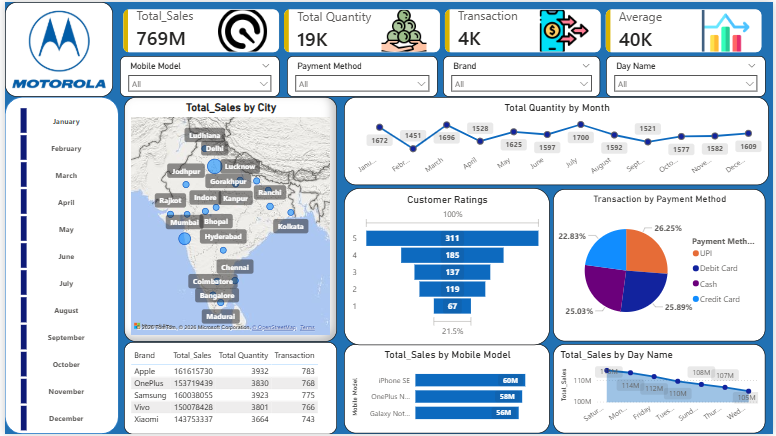

The page's visual inventory and layout, read from the dashboard file:
{"tool":"powerbi","page":{"name":"Page 1","canvas":[1280,720],"ordinal":0},"visuals":[{"type":"image","box":[0,0,180,158.5],"z":0},{"type":"shape","box":[0,158.5,189.2,561.5],"z":1000},{"type":"slicer","fields":{"Values":["Sales_Data.Date.Variation.Date Hierarchy.Month"]},"box":[0,169.2,192.3,550.8],"z":2000},{"type":"cardVisual","fields":{"Data":["Sales_Data.Total_Sales","Sales_Data.Total Quantity","Sales_Data.Transaction","Sales_Data.Average"]},"box":[180,0,1100,101.5],"z":3000},{"type":"map","fields":{"Category":["Sales_Data.City"],"Size":["Sales_Data.Total_Sales"]},"box":[198.5,158.5,355.4,407.7],"z":4000},{"type":"lineChart","fields":{"Y":["Sales_Data.Total Quantity"],"Category":["Sales_Data.Date.Variation.Date Hierarchy.Month","Sales_Data.Date.Variation.Date Hierarchy.Day"]},"box":[565.3,159,708.4,147.5],"z":5000},{"type":"clusteredBarChart","fields":{"Category":["Sales_Data.Mobile Model"],"Y":["Sales_Data.Total_Sales"]},"box":[564.6,570.8,343.1,149.2],"z":6000},{"type":"pieChart","fields":{"Category":["Sales_Data.Payment Method"],"Y":["Sales_Data.Transaction"]},"box":[913.8,312.3,353.8,253.8],"z":7000},{"type":"funnel","title":"Customer Ratings ","fields":{"Category":["Sales_Data.Customer Ratings"],"Y":["CountNonNull(Sales_Data.Customer Ratings)"]},"box":[564.6,309.2,343.1,261.5],"z":8000},{"type":"areaChart","fields":{"Category":["Sales_Data.Day Name"],"Y":["Sales_Data.Total_Sales"]},"box":[913.8,570.8,353.8,149.2],"z":9000},{"type":"tableEx","fields":{"Values":["Sales_Data.Brand","Sales_Data.Total_Sales","Sales_Data.Total Quantity","Sales_Data.Transaction"]},"box":[198.5,566.2,355.4,153.8],"z":10000},{"type":"slicer","fields":{"Values":["Sales_Data.Mobile Model"]},"box":[192.3,90.8,266.2,67.7],"z":11000},{"type":"slicer","fields":{"Values":["Sales_Data.Payment Method"]},"box":[469.2,90.8,250.8,67.7],"z":12000},{"type":"slicer","fields":{"Values":["Sales_Data.Brand"]},"box":[730.8,90.8,261.5,67.7],"z":13000},{"type":"slicer","fields":{"Values":["Sales_Data.Day Name"]},"box":[1001.5,90.8,266.2,67.7],"z":14000}]}

Visuals, with their boxes in screenshot pixels (x1, y1, x2, y2), scaled from the page's 1280x720 canvas onto the 776x436 screenshot:
image: (0,0,109,96)
shape: (0,96,115,435)
slicer - Sales_Data.Date.Variation.Date Hierarchy.Month: (0,102,117,435)
cardVisual - Sales_Data.Total_Sales x Sales_Data.Total Quantity: (109,0,775,61)
map - Sales_Data.City x Sales_Data.Total_Sales: (120,96,336,343)
lineChart - Sales_Data.Total Quantity x Sales_Data.Date.Variation.Date Hierarchy.Month: (343,96,772,186)
clusteredBarChart - Sales_Data.Mobile Model x Sales_Data.Total_Sales: (342,346,550,435)
pieChart - Sales_Data.Payment Method x Sales_Data.Transaction: (554,189,768,343)
"Customer Ratings " funnel: (342,187,550,346)
areaChart - Sales_Data.Day Name x Sales_Data.Total_Sales: (554,346,768,435)
tableEx - Sales_Data.Brand x Sales_Data.Total_Sales: (120,343,336,435)
slicer - Sales_Data.Mobile Model: (117,55,278,96)
slicer - Sales_Data.Payment Method: (284,55,436,96)
slicer - Sales_Data.Brand: (443,55,602,96)
slicer - Sales_Data.Day Name: (607,55,769,96)
